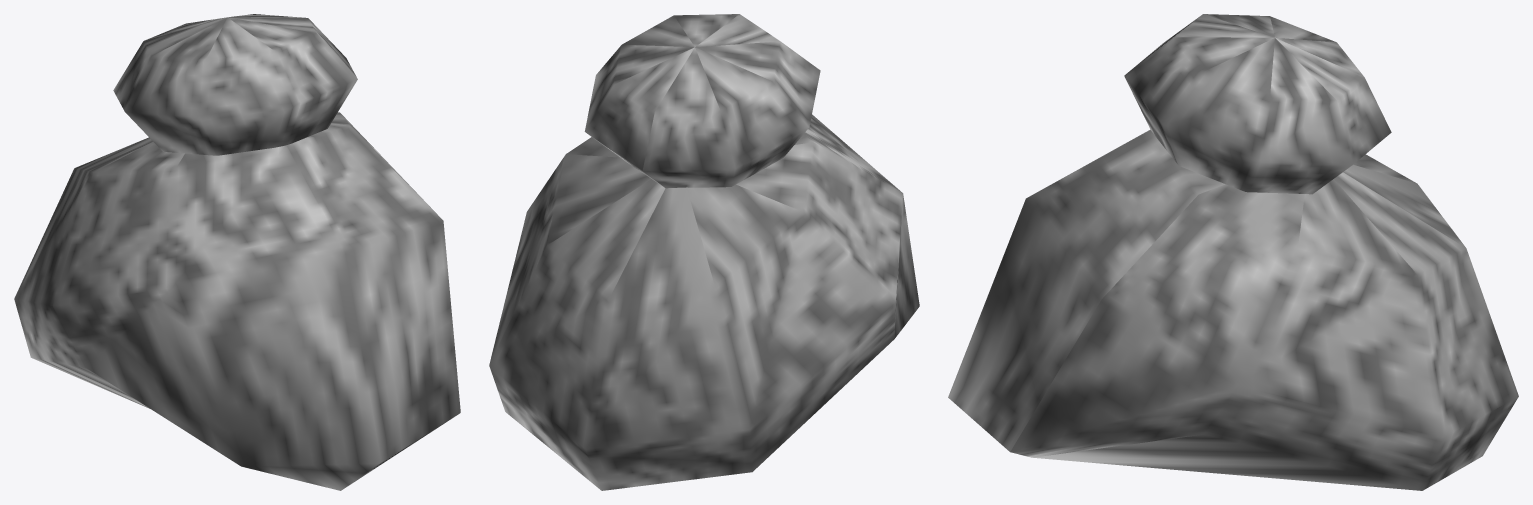
File: Wig_F_Hair_Bun.fbx
The picture shows the model from 3 angles, left to right: view 1: azimuth 30°, elevation 25°; view 2: azimuth 150°, elevation 25°; view 3: azimuth 270°, elevation 25°; orthographic projection. The views are drawn at different scales.
Visible parts, largest first — view 1: BoxOfJars003; view 2: BoxOfJars003; view 3: BoxOfJars003.
Part boxes in pixels (bbox=[...]): BoxOfJars003: bbox=[14, 14, 460, 490]; BoxOfJars003: bbox=[489, 14, 919, 490]; BoxOfJars003: bbox=[948, 14, 1518, 490].
Bounding box in the file's own units: 12.4 × 12.13 × 14.93.
